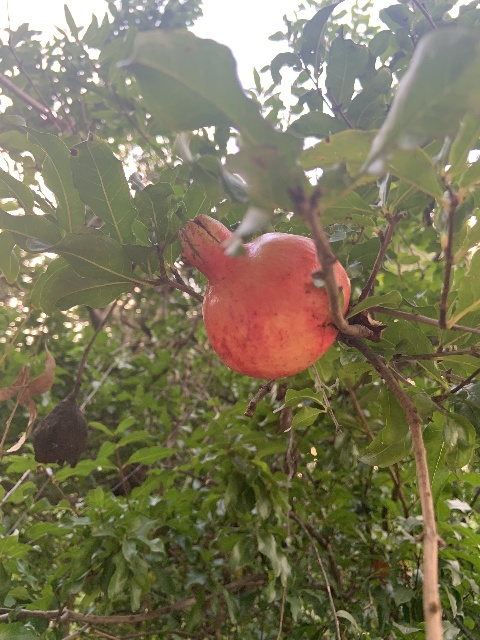ripe: (179, 213, 354, 379)
